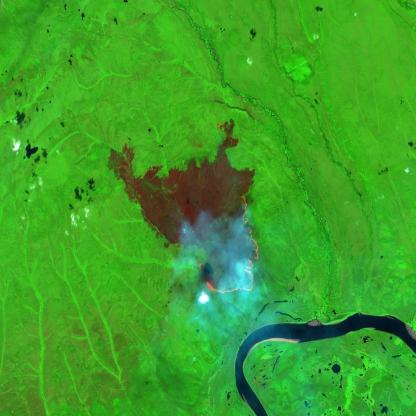fire: (198, 189, 262, 300)
